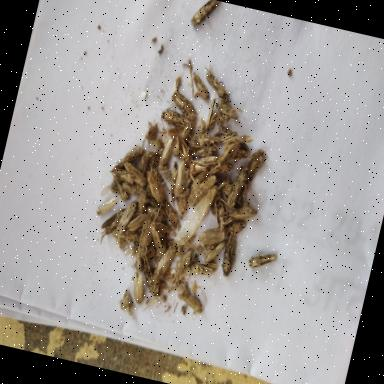pbw: (207, 136, 242, 180), (198, 62, 236, 102), (216, 124, 255, 159), (186, 170, 218, 212), (155, 188, 187, 230), (96, 204, 126, 248), (135, 256, 167, 297), (230, 165, 258, 211), (141, 164, 172, 204), (170, 246, 196, 293), (110, 141, 142, 178), (210, 200, 237, 243), (218, 232, 242, 278), (152, 242, 178, 284), (243, 148, 269, 188), (114, 198, 138, 241), (216, 177, 248, 209), (158, 104, 192, 134), (171, 134, 199, 170), (189, 0, 221, 31), (104, 170, 134, 202), (168, 90, 202, 118), (186, 258, 218, 287), (178, 285, 208, 315), (188, 72, 216, 103), (184, 129, 220, 153), (226, 198, 259, 224), (172, 120, 194, 159), (136, 216, 156, 258), (216, 142, 248, 168), (188, 151, 217, 179), (120, 162, 151, 188), (196, 224, 228, 249), (246, 249, 278, 274), (186, 166, 210, 198), (166, 162, 185, 202), (120, 227, 156, 248), (144, 156, 162, 198), (207, 176, 225, 218), (132, 244, 157, 274), (203, 236, 227, 267), (172, 160, 190, 198), (127, 241, 149, 272), (207, 157, 239, 177), (214, 99, 244, 120), (204, 98, 222, 132), (128, 274, 148, 304), (223, 216, 247, 240), (96, 194, 118, 220), (190, 141, 218, 161), (127, 209, 148, 235), (159, 136, 176, 168), (107, 168, 136, 186), (152, 231, 170, 260), (136, 148, 153, 176), (144, 204, 166, 222), (121, 181, 145, 197), (150, 218, 173, 234), (174, 192, 189, 216), (136, 190, 150, 214), (166, 123, 185, 139), (216, 112, 232, 128)
